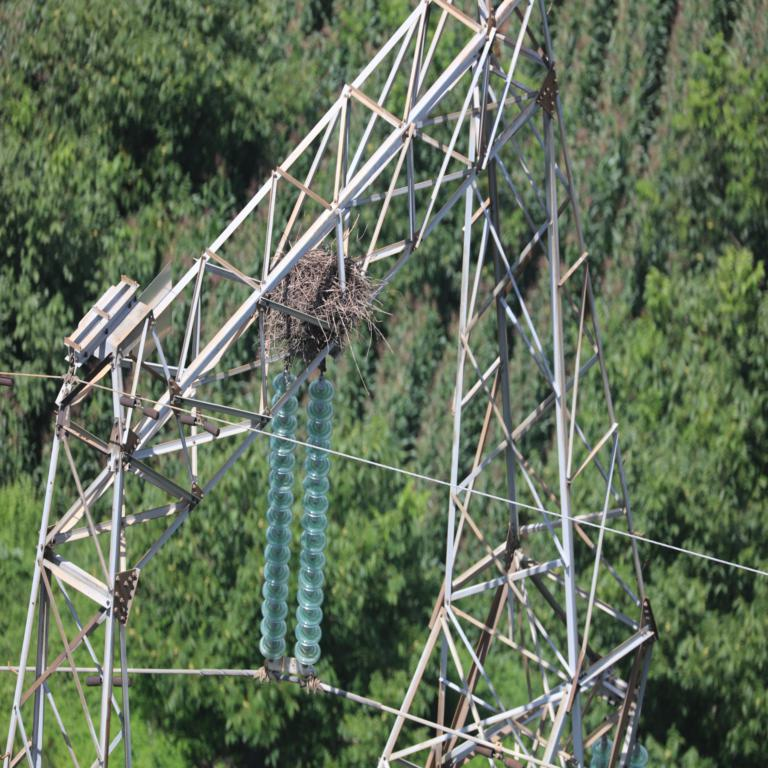nest: (263, 247, 370, 359)
